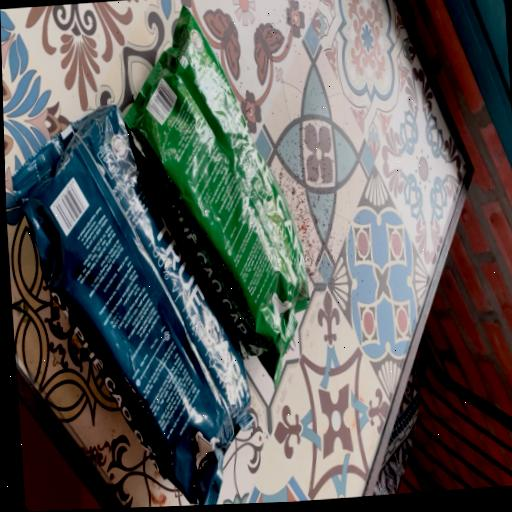cafe_hat: (12, 105, 251, 505)
cafe_xay: (123, 7, 308, 386)
